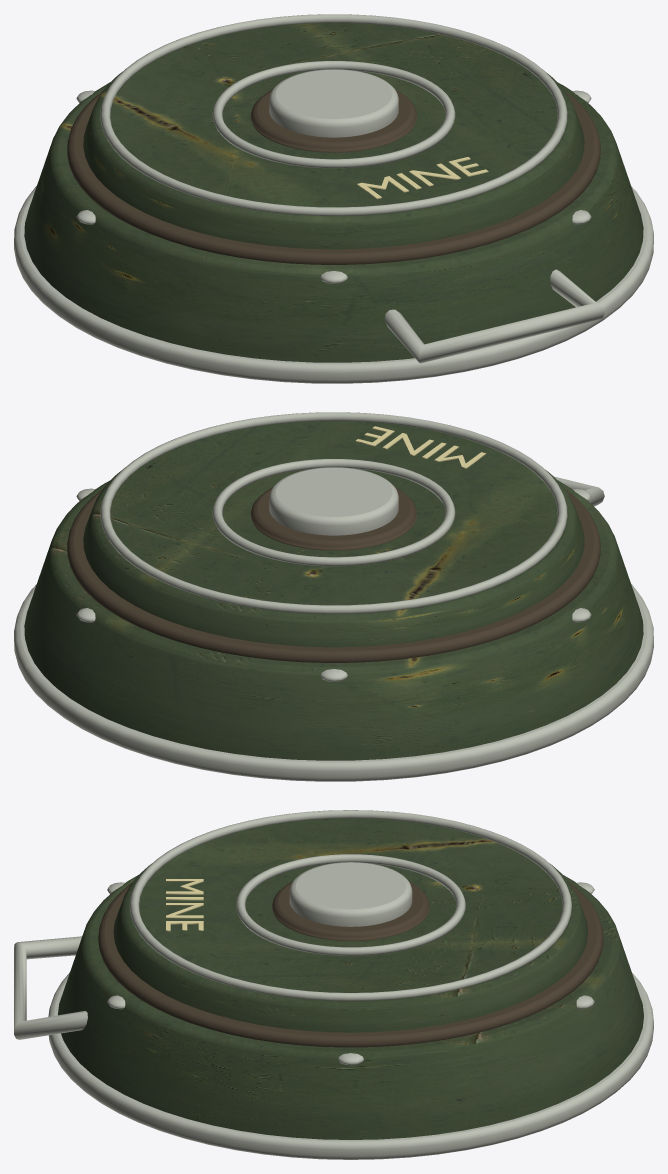
Rendered from mine.glb.
3 views of the same model, one above another, from view 1: azimuth 30°, elevation 25°; view 2: azimuth 150°, elevation 25°; view 3: azimuth 270°, elevation 25° (orthographic). The views are drawn at different scales.
Parts seen in each view (by area): view 1: RM_Mine; view 2: RM_Mine; view 3: RM_Mine.
Part boxes in pixels (x1,y1,x2,y2): RM_Mine: [14, 14, 653, 383]; RM_Mine: [14, 412, 653, 781]; RM_Mine: [14, 810, 653, 1159].
Bounding box in the file's own units: 0.77 × 0.2075 × 0.813.
4 materials, 1 textured.
